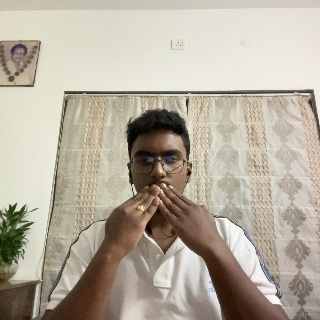Thank You: (103, 183, 228, 264)
